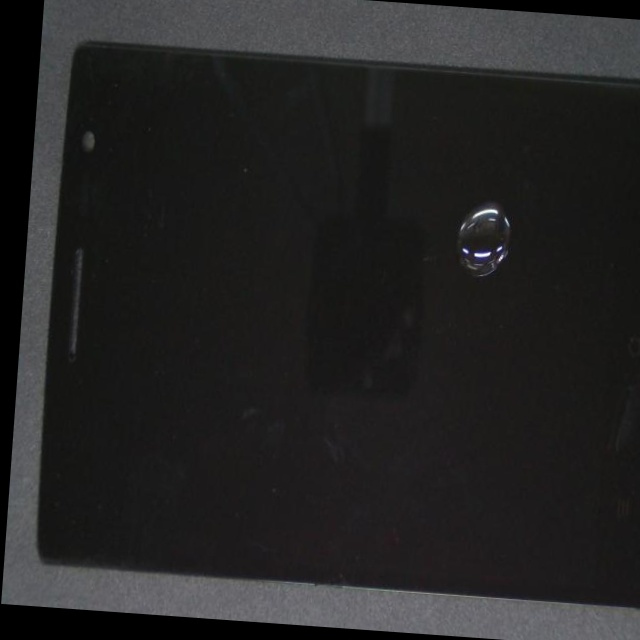oil: (277, 114, 640, 338)
